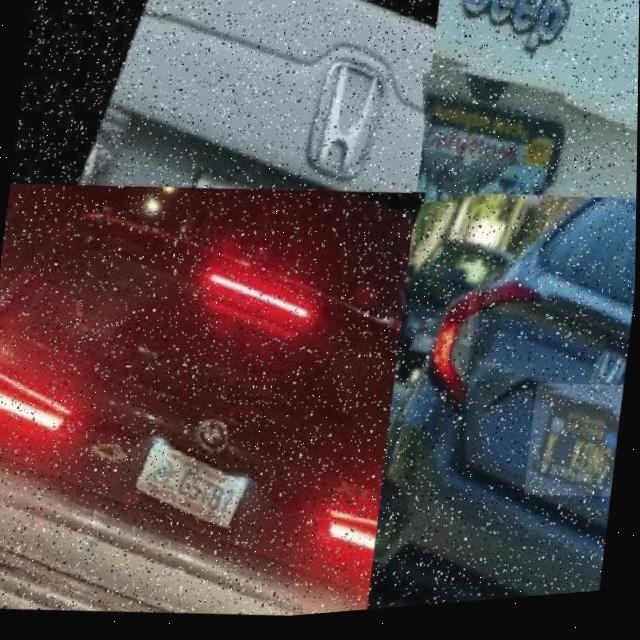LicensePlate: (412, 54, 577, 220), (525, 387, 625, 512), (135, 438, 251, 528)
